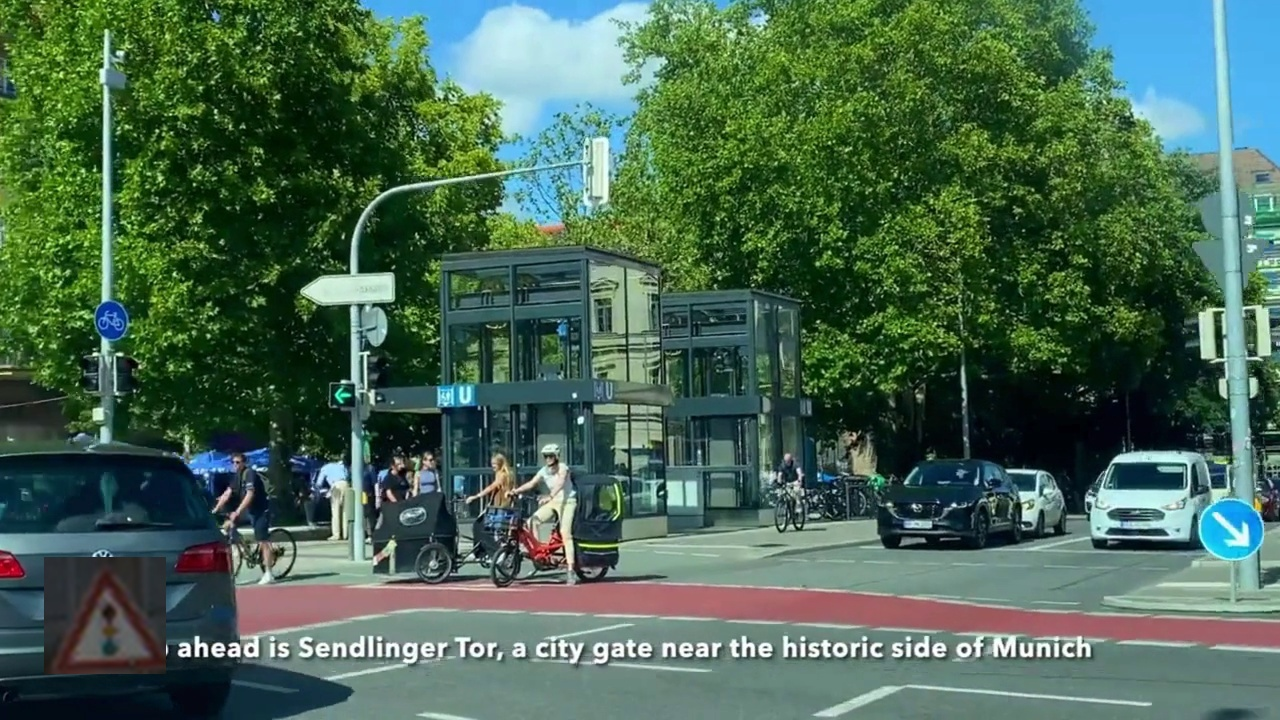Signals: (44, 557, 166, 674)
